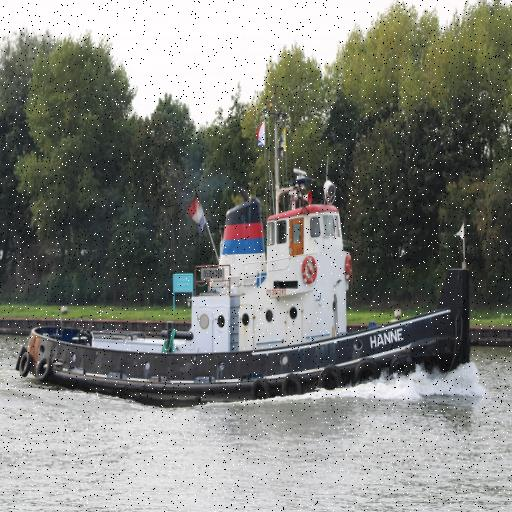tugboat: (15, 167, 473, 423)
